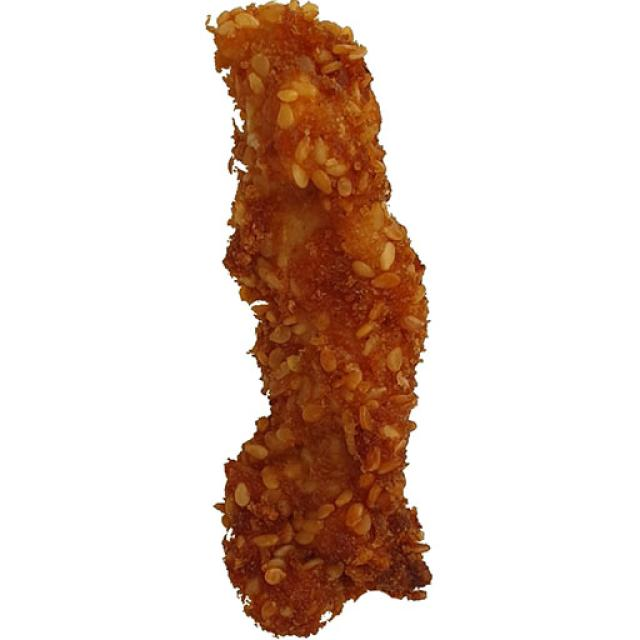Frango: (60, 8, 480, 640)
